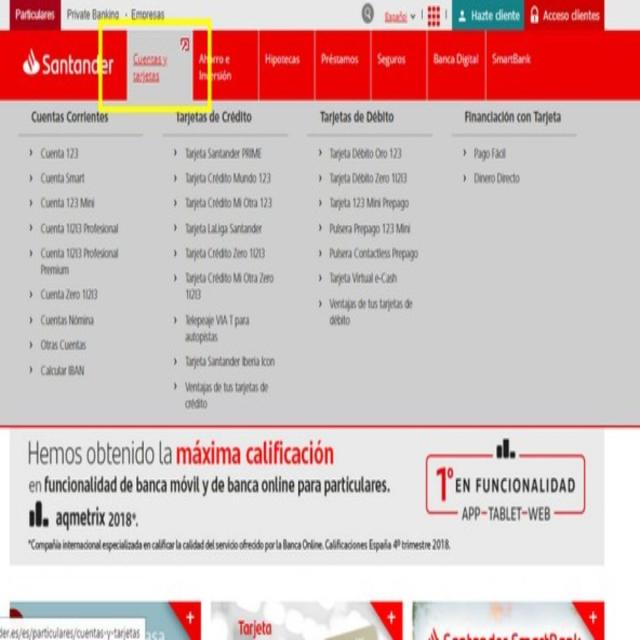santander: (23, 49, 41, 75)
